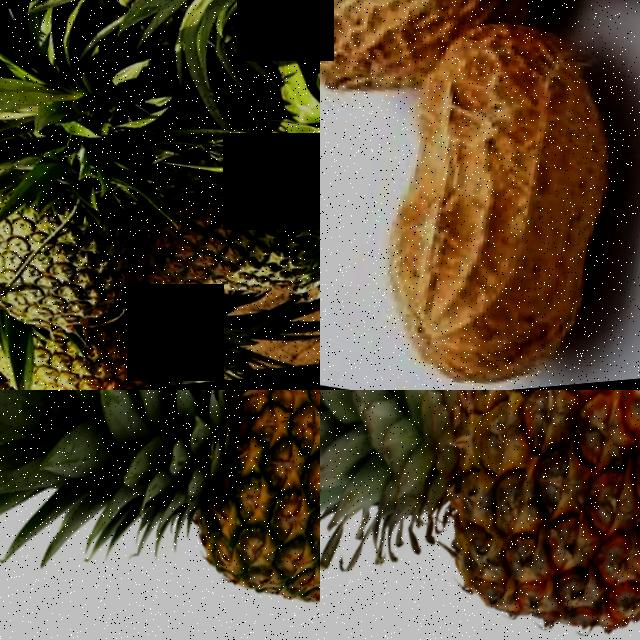peanuts: (327, 6, 640, 390), (320, 0, 452, 139), (388, 0, 640, 65)
pineapple: (320, 390, 640, 640), (74, 390, 320, 640), (109, 166, 320, 336), (0, 155, 143, 360), (0, 299, 152, 390)
